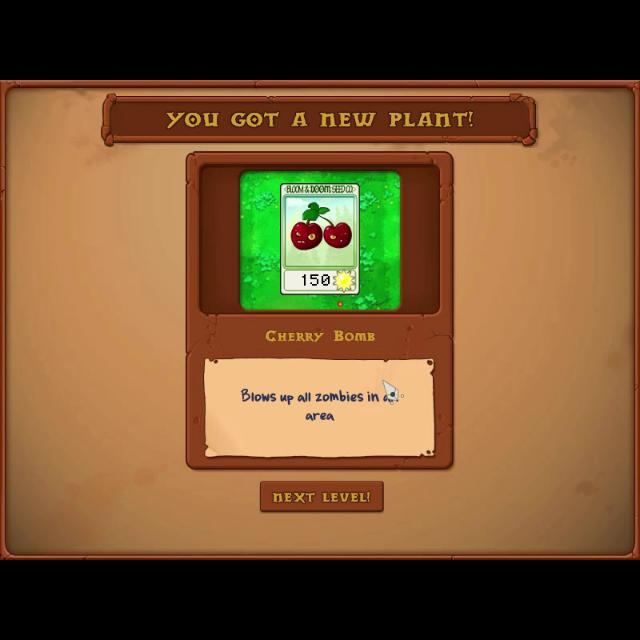Next Level: (258, 478, 387, 514)
